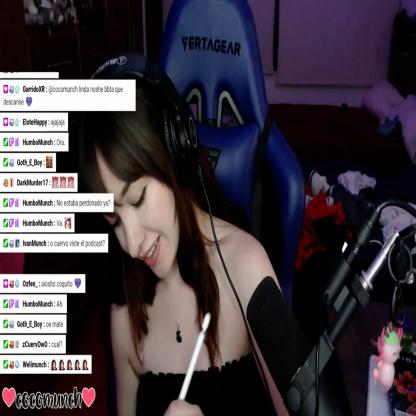streamer: (78, 54, 287, 416)
